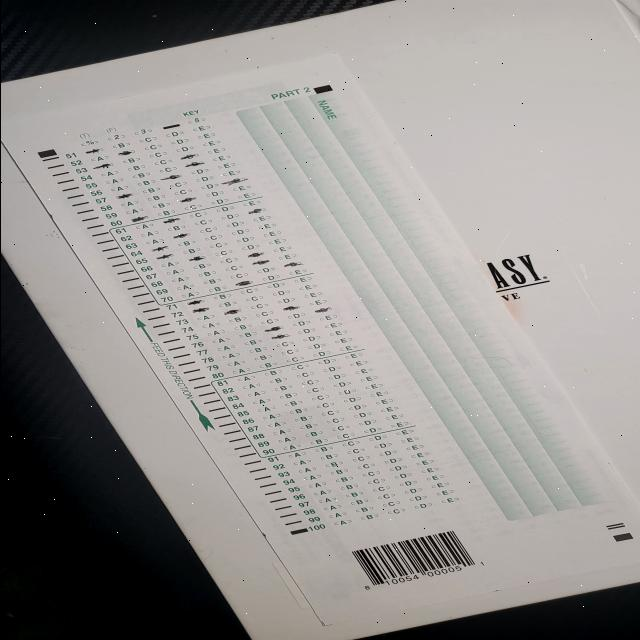scantron_back: (2, 51, 640, 627)
